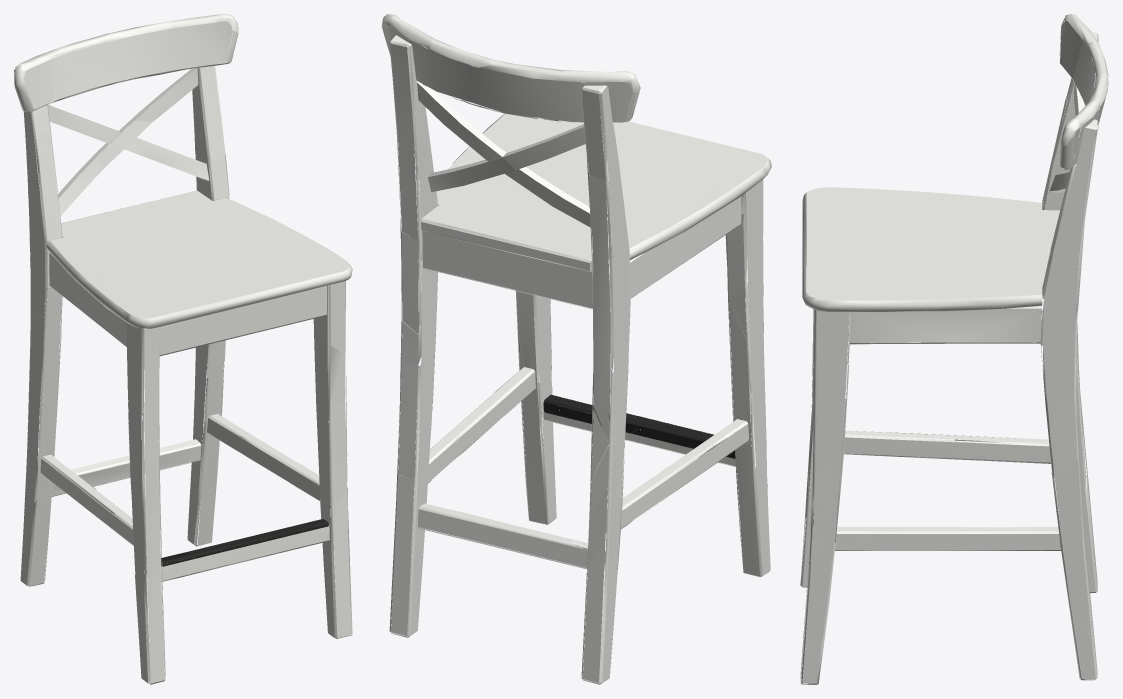
3 renders of one model, left to right at view 1: azimuth 30°, elevation 25°; view 2: azimuth 150°, elevation 25°; view 3: azimuth 270°, elevation 25°, orthographic. The views are drawn at different scales.
Visible parts, largest first — view 1: rosentorp-stool.001; view 2: rosentorp-stool.001; view 3: rosentorp-stool.001.
Part boxes in pixels (x1,y1,x2,y2): rosentorp-stool.001: (14, 14, 352, 684); rosentorp-stool.001: (381, 14, 771, 684); rosentorp-stool.001: (800, 14, 1108, 684).
Size of the model in its own units: 0.4047 by 0.9168 by 0.4534.
Materials: 1 (1 with a texture image).
